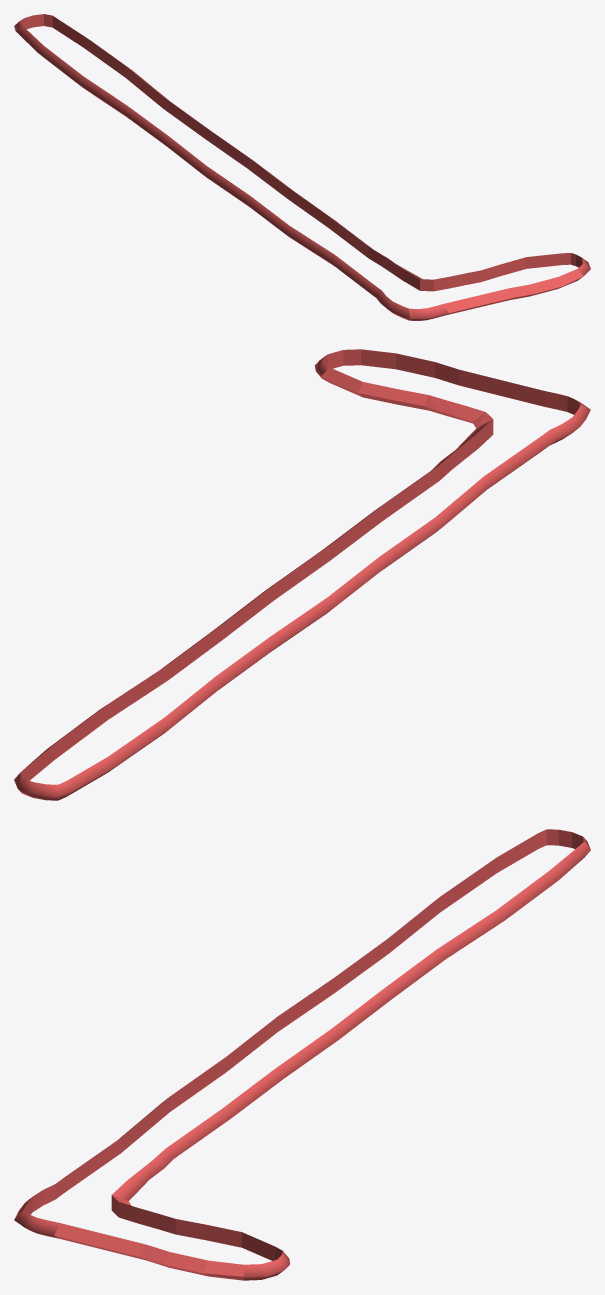
File: test_3_outline.glb
3 renders of one model, top to bottom at view 1: azimuth 30°, elevation 25°; view 2: azimuth 150°, elevation 25°; view 3: azimuth 330°, elevation 25°, orthographic. The views are drawn at different scales.
Parts seen in each view (by area): view 1: Box001; view 2: Box001; view 3: Box001.
Part boxes in pixels (box(x1,y1,x2,y2)): Box001: box(14, 14, 590, 320); Box001: box(14, 349, 590, 800); Box001: box(14, 829, 590, 1280).
Bounding box in the file's own units: 0.8873 × 0.051 × 3.13.
